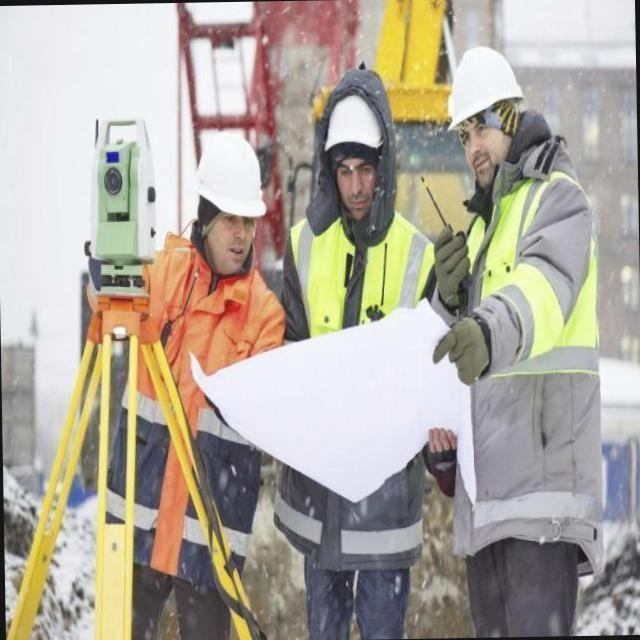vest: (76, 226, 298, 609), (433, 170, 622, 368), (278, 204, 443, 353)
